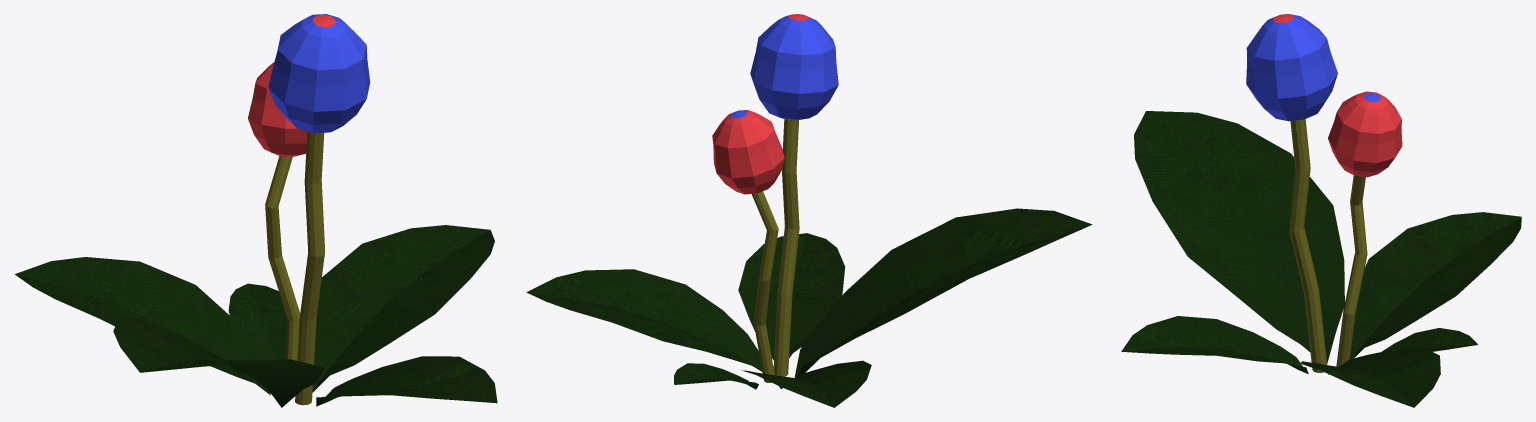
Rendered from Sm_FlowersL.fbx.
The picture shows the model from 3 angles, left to right: view 1: azimuth 30°, elevation 25°; view 2: azimuth 150°, elevation 25°; view 3: azimuth 270°, elevation 25°; orthographic projection. The views are drawn at different scales.
Visible parts, largest first — view 1: Sm_FlowersL; view 2: Sm_FlowersL; view 3: Sm_FlowersL.
Part boxes in pixels (box(x1,y1,x2,y2)): Sm_FlowersL: box(14, 14, 497, 407); Sm_FlowersL: box(526, 14, 1092, 407); Sm_FlowersL: box(1121, 14, 1521, 407).
Size of the model in its own units: 80.51 by 61.67 by 62.76.
